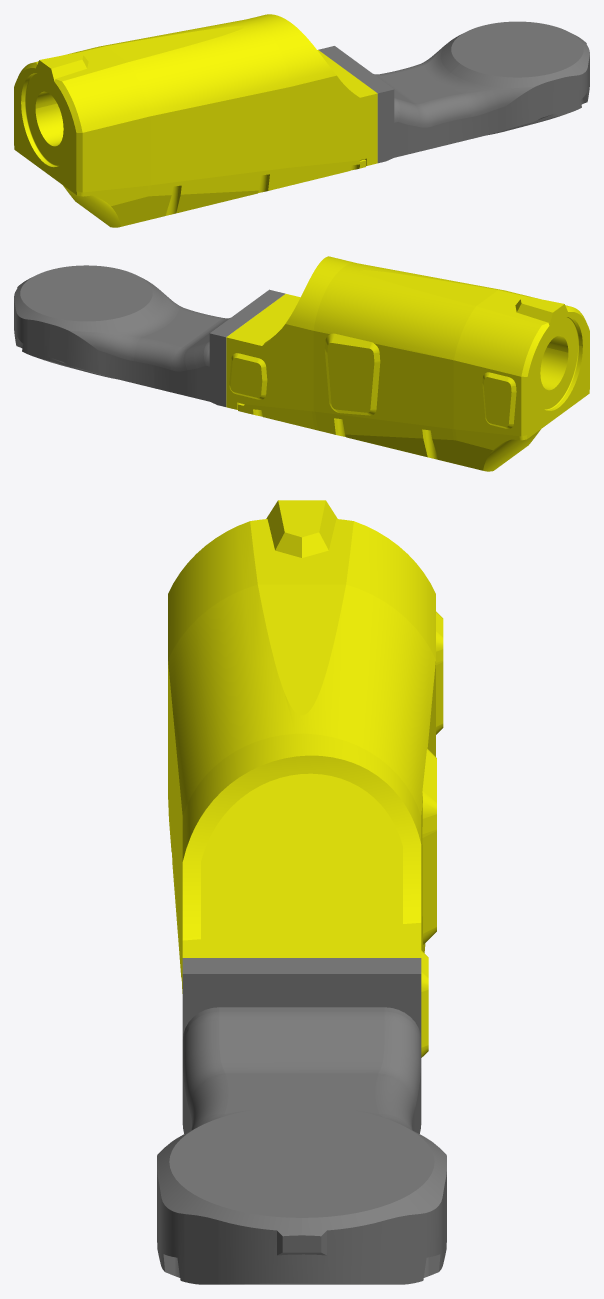
3 renders of one model, top to bottom at view 1: azimuth 30°, elevation 25°; view 2: azimuth 150°, elevation 25°; view 3: azimuth 270°, elevation 25°, orthographic. The views are drawn at different scales.
Visible parts, largest first — view 1: Mesh_0; view 2: Mesh_0; view 3: Mesh_0.
Part boxes in pixels (x1=…): Mesh_0: x1=14, y1=14, x2=589, y2=227; Mesh_0: x1=14, y1=256, x2=589, y2=471; Mesh_0: x1=157, y1=500, x2=446, y2=1284.
Bounding box in the file's own units: 0.6753 × 0.1985 × 0.158.
